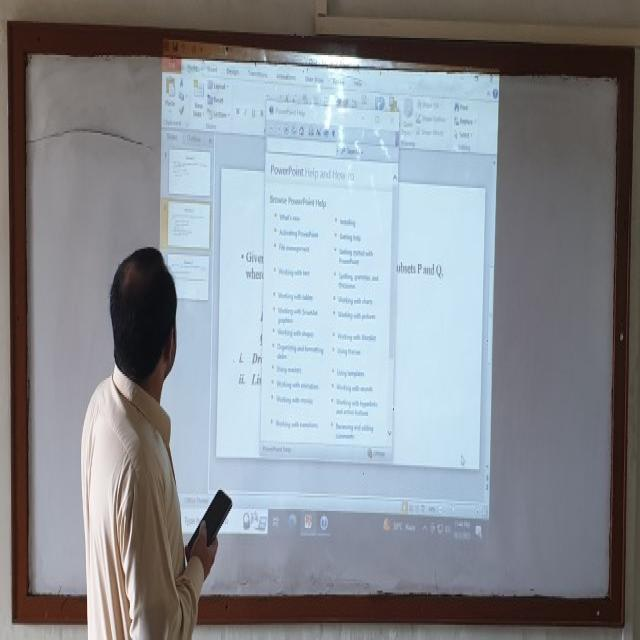Instructor: (78, 239, 196, 640)
Slide: (151, 46, 504, 555)
White-board: (16, 30, 624, 609)
